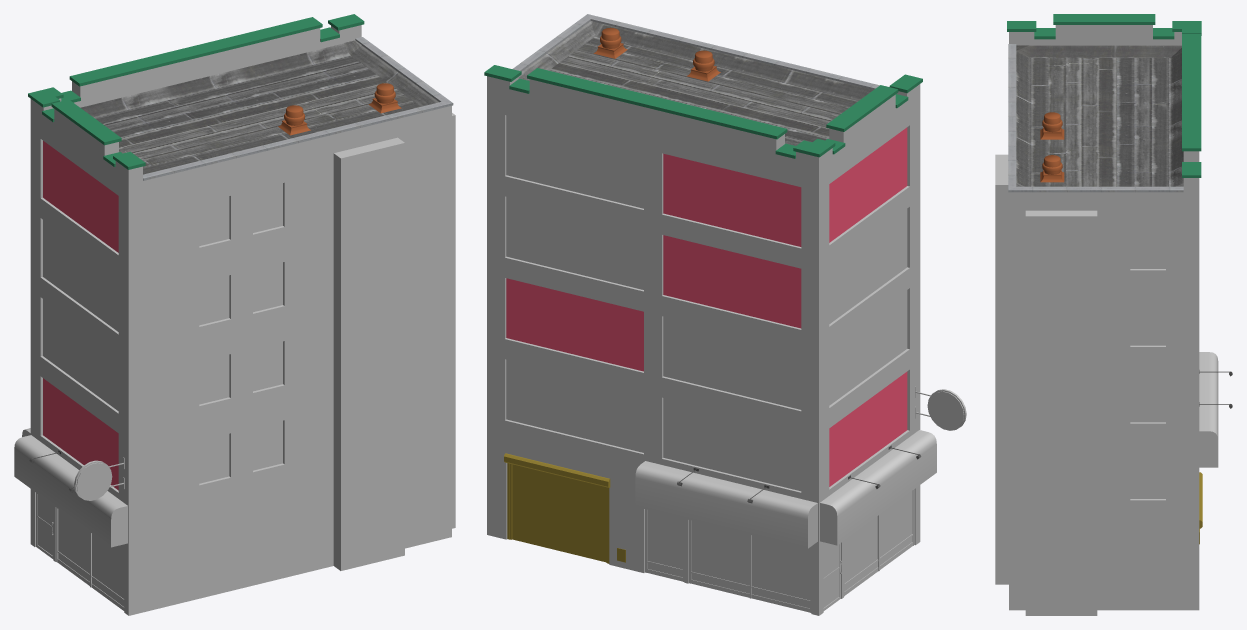
File: mcp_building_35_LOD_0.FBX
3 views of the same model, side by side, from view 1: azimuth 30°, elevation 25°; view 2: azimuth 150°, elevation 25°; view 3: azimuth 270°, elevation 25° (orthographic). The views are drawn at different scales.
Parts seen in each view (by area): view 1: mcp_building_35_walls, mcp_building_35, mcp_building_35_concrete, mcp_building_35_metal, mcp_building_35_props_03; view 2: mcp_building_35, mcp_building_35_walls, mcp_building_35_props_04, mcp_building_35_concrete, mcp_building_35_metal, mcp_building_35_props_03; view 3: mcp_building_35_walls, mcp_building_35, mcp_building_35_concrete, mcp_building_35_metal, mcp_building_35_props_03.
Part boxes in pixels (x1,y1,x2,y2): mcp_building_35_walls: (30, 25, 455, 615); mcp_building_35: (14, 141, 282, 610); mcp_building_35_concrete: (28, 14, 364, 169); mcp_building_35_metal: (143, 37, 453, 180); mcp_building_35_props_03: (278, 83, 401, 135); mcp_building_35: (506, 115, 966, 612); mcp_building_35_walls: (487, 21, 920, 615); mcp_building_35_props_04: (504, 453, 610, 563); mcp_building_35_concrete: (484, 65, 922, 158); mcp_building_35_metal: (512, 14, 879, 89); mcp_building_35_props_03: (593, 27, 720, 81); mcp_building_35_walls: (995, 25, 1199, 615); mcp_building_35: (1130, 227, 1218, 498); mcp_building_35_concrete: (1007, 14, 1201, 177); mcp_building_35_metal: (1008, 44, 1183, 192); mcp_building_35_props_03: (1040, 112, 1064, 182).
Bounding box in the file's own units: 1802 × 2047 × 994.
